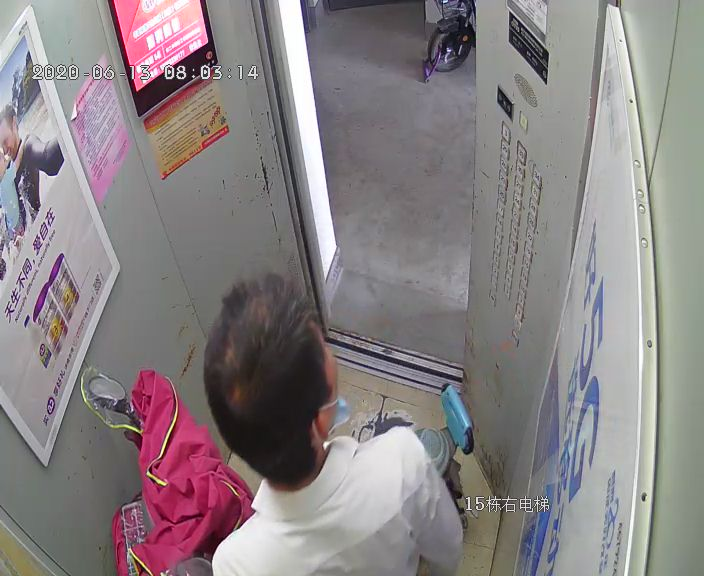Electric-bicycle: (80, 367, 473, 576)
